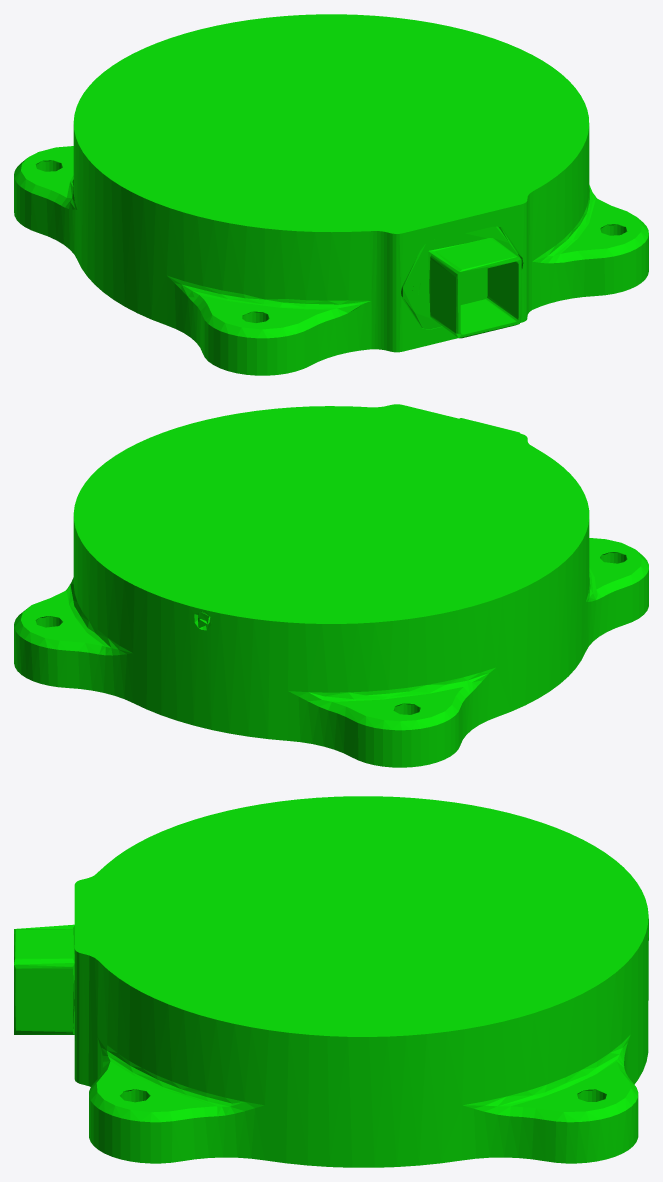
The model's file is baseG.dae.
3 renders of one model, top to bottom at view 1: azimuth 30°, elevation 25°; view 2: azimuth 150°, elevation 25°; view 3: azimuth 270°, elevation 25°, orthographic. The views are drawn at different scales.
Visible parts, largest first — view 1: node-shape0-name; view 2: node-shape0-name; view 3: node-shape0-name.
Boxes of the visible parts, box(x1,y1,x2,y2) form: node-shape0-name: box(14, 14, 648, 375); node-shape0-name: box(14, 404, 648, 767); node-shape0-name: box(14, 796, 648, 1167).
Size of the model in its own units: 0.15 by 0.1671 by 0.038.
